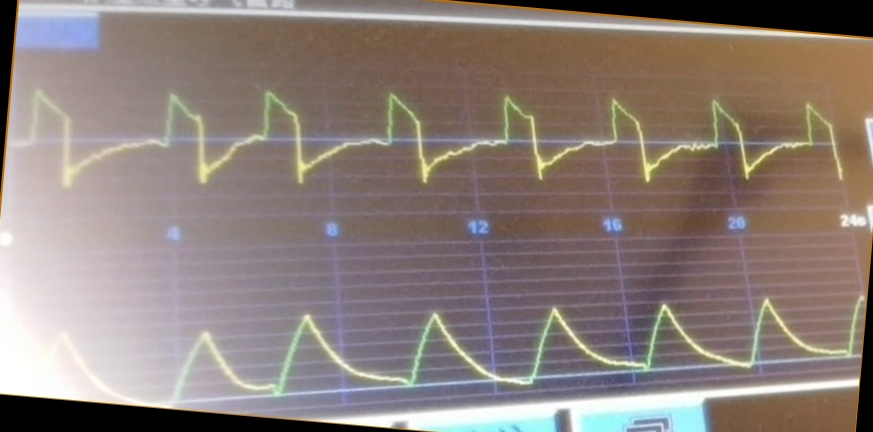Accumulation Flow: (13, 81, 848, 206)
Volume: (30, 290, 862, 406)
